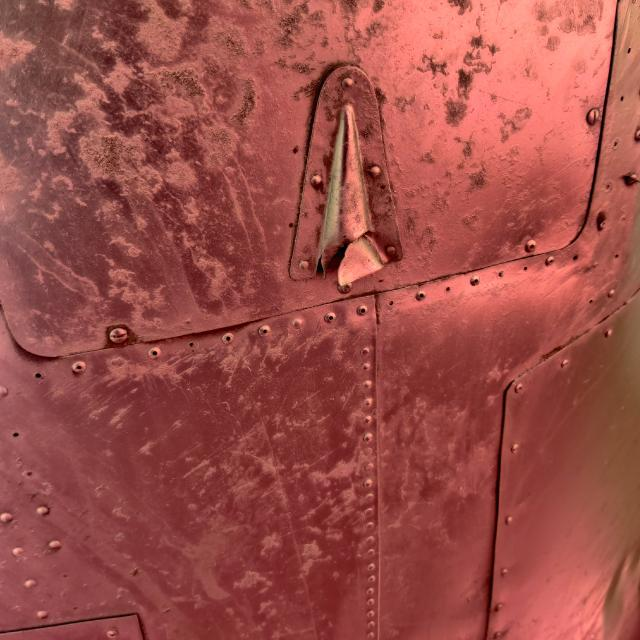crack: (305, 200, 408, 301)
